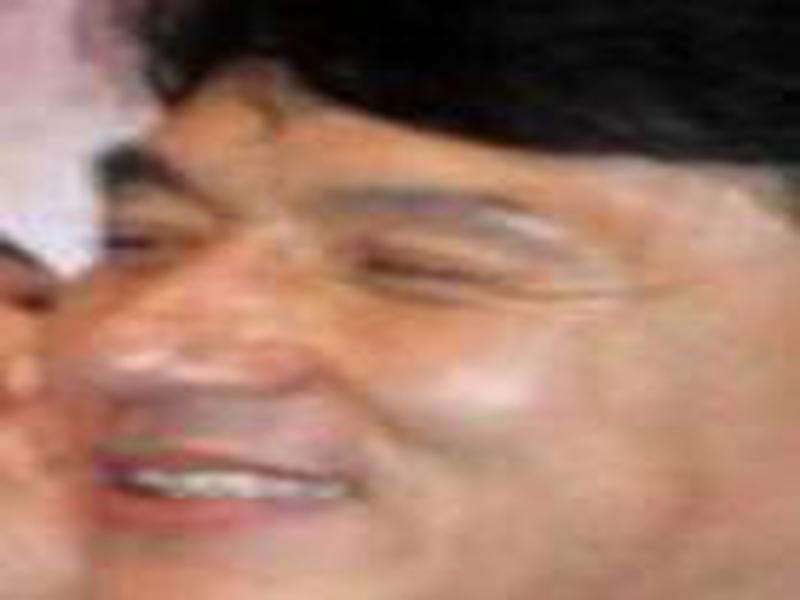without_mask: (57, 63, 799, 599)
